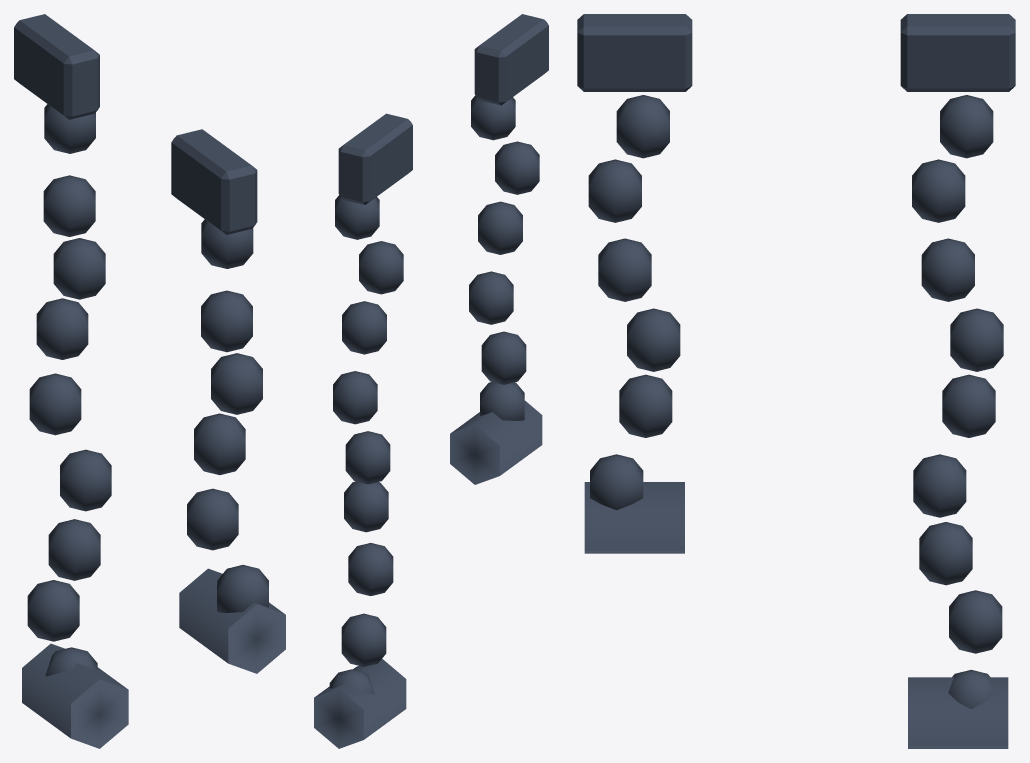
The model's file is prop_chainsundefined_5f3d.glb.
3 views of the same model, side by side, from view 1: azimuth 30°, elevation 25°; view 2: azimuth 150°, elevation 25°; view 3: azimuth 270°, elevation 25° (orthographic). The views are drawn at different scales.
Visible parts, largest first — view 1: prop_chainsundefined_5f3d; view 2: prop_chainsundefined_5f3d; view 3: prop_chainsundefined_5f3d.
Part boxes in pixels (box(x1,y1,x2,y2)): prop_chainsundefined_5f3d: box(14, 14, 285, 748); prop_chainsundefined_5f3d: box(314, 14, 548, 748); prop_chainsundefined_5f3d: box(577, 14, 1015, 748).
Bounding box in the file's own units: 0.102 × 0.9767 × 0.5392.
1 material, 1 textured.
